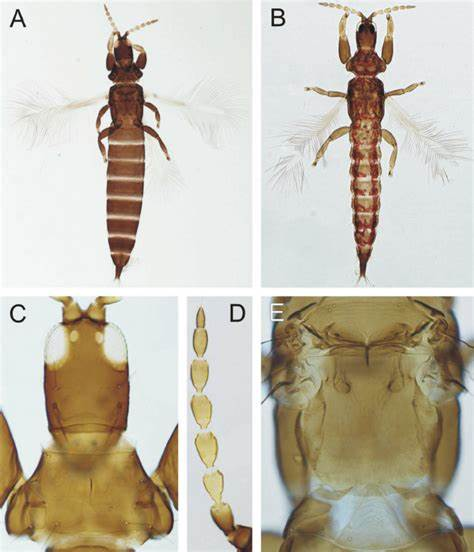Phlaeothripidae: (24, 5, 244, 288), (268, 1, 470, 289)
